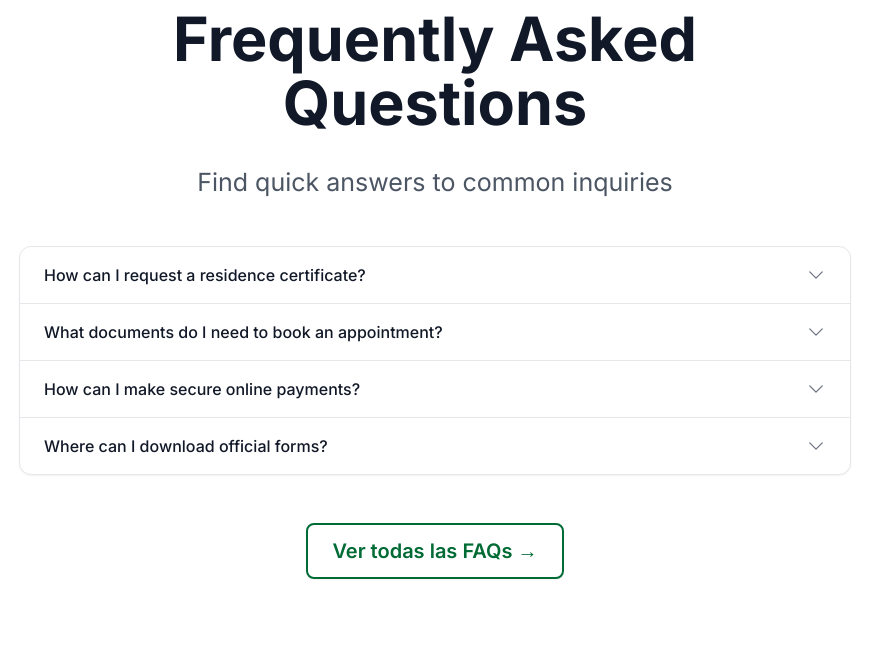
Test: FAQPreview Component › Accordion Functionality › closes FAQ when clicked again
Click the button "How can I request a residence certificate?" at (205, 275), box x1=20 y1=246 x2=850 y2=302
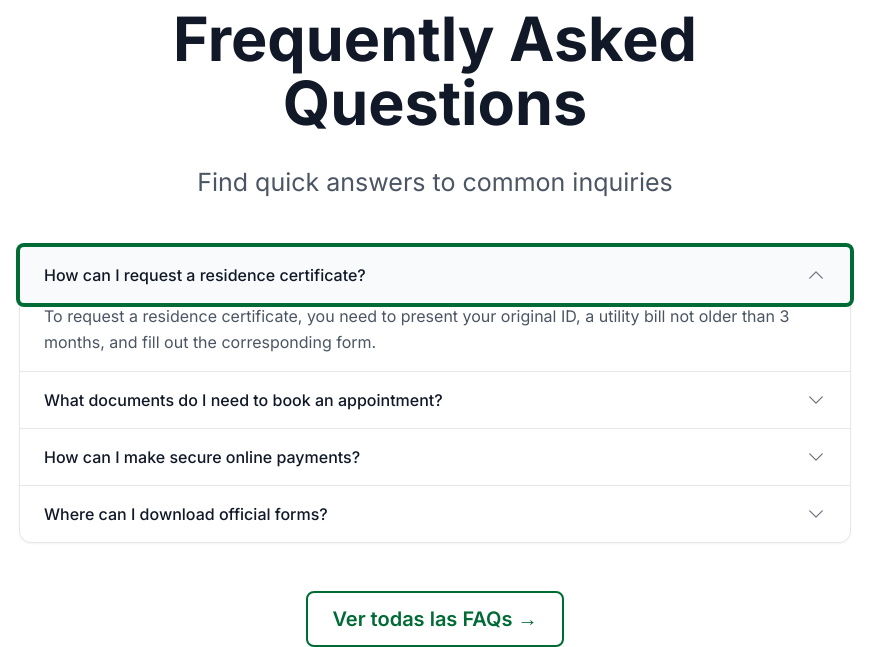
Now the text "To request a residence certificate" is shown, box x1=44 y1=306 x2=789 y2=352
Click the button "How can I request a residence certificate?" at (205, 275), box x1=20 y1=246 x2=850 y2=302
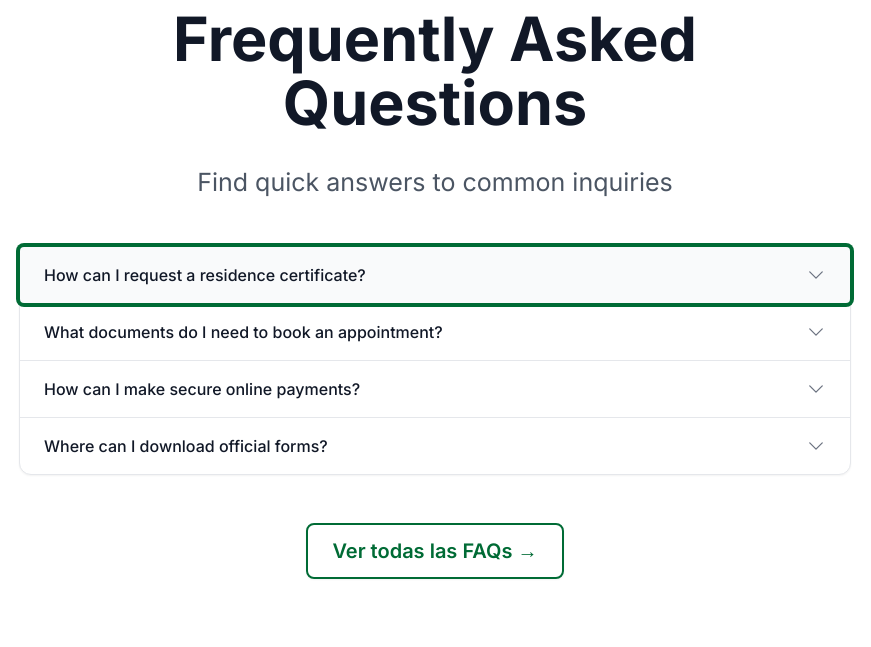
Now the text "To request a residence certificate" is gone
